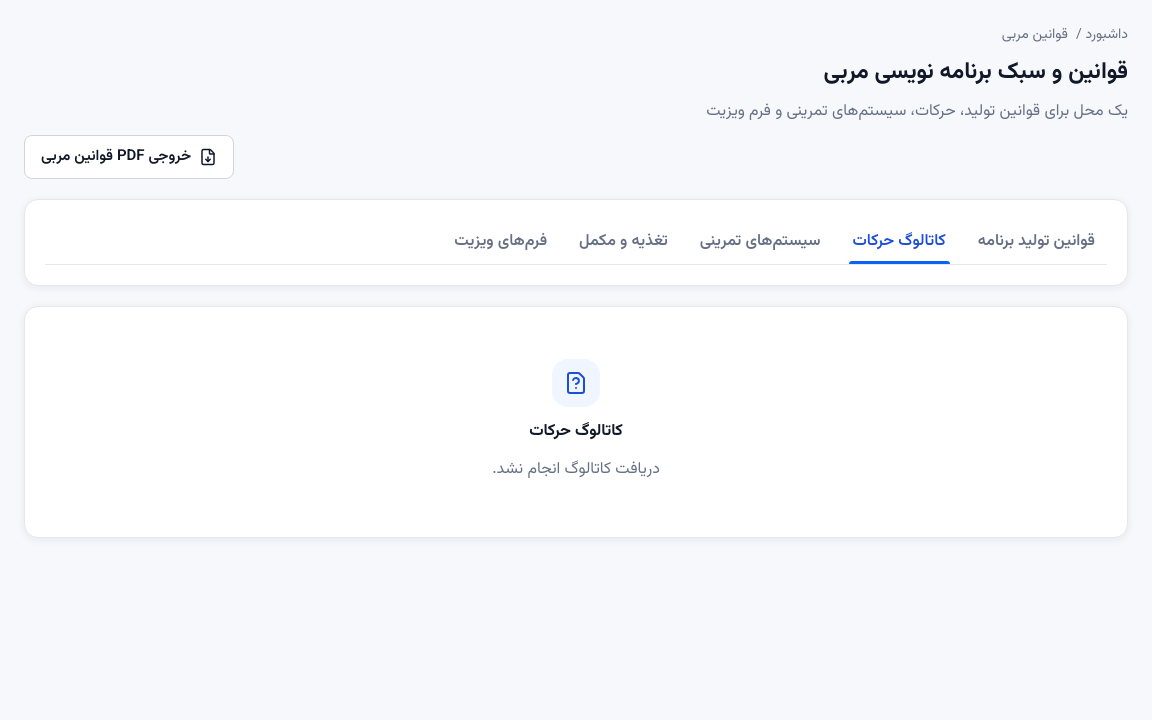
Test: CoachRulesPage › does not fetch the rules aggregate for an independent catalog tab
This screenshot has width=1152, height=720.
Step 1. Click the tab "قوانین تولید برنامه" → click(1036, 242), box [966,220,1107,264]
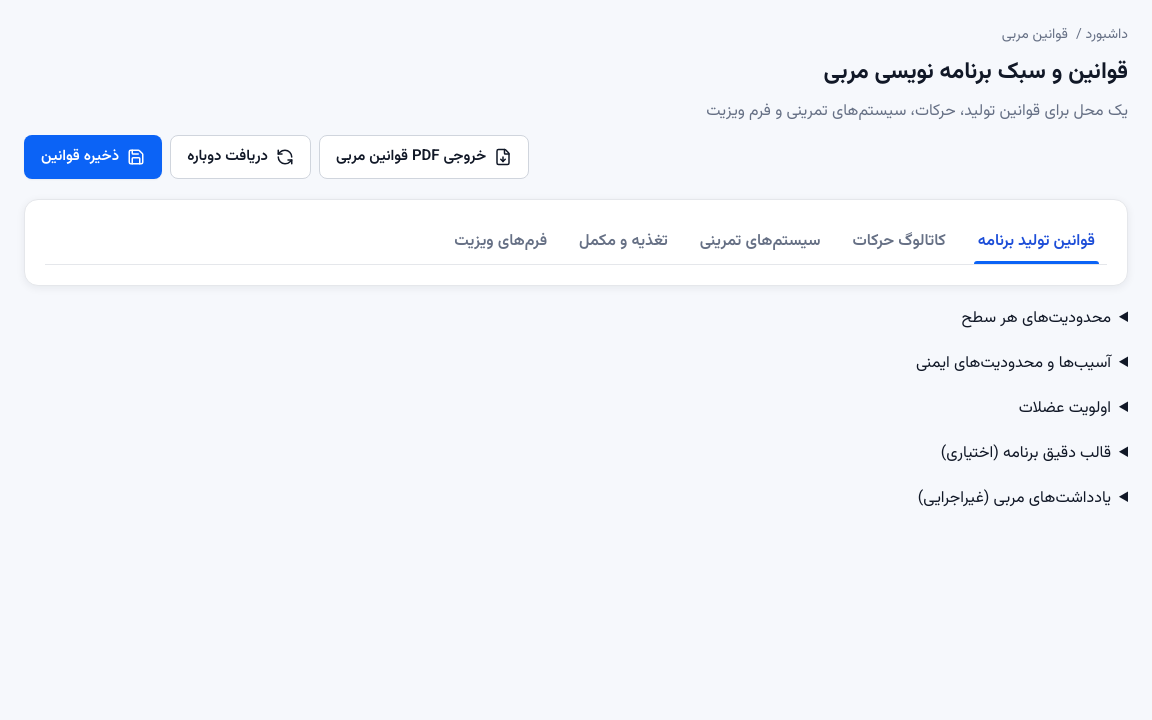
Expected: the heading "قالب دقیق برنامه (اختیاری)" is shown, [941,441,1111,466]
